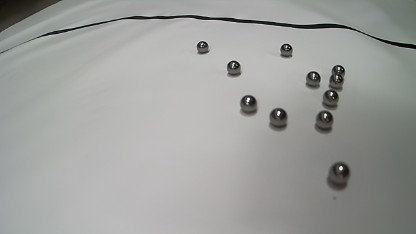ironball: (328, 161, 350, 184), (269, 108, 287, 127), (315, 110, 333, 129), (240, 94, 257, 112), (322, 89, 338, 106), (305, 71, 321, 86), (329, 74, 344, 89), (227, 60, 241, 75), (331, 65, 345, 77), (280, 43, 292, 56), (196, 40, 208, 53)
